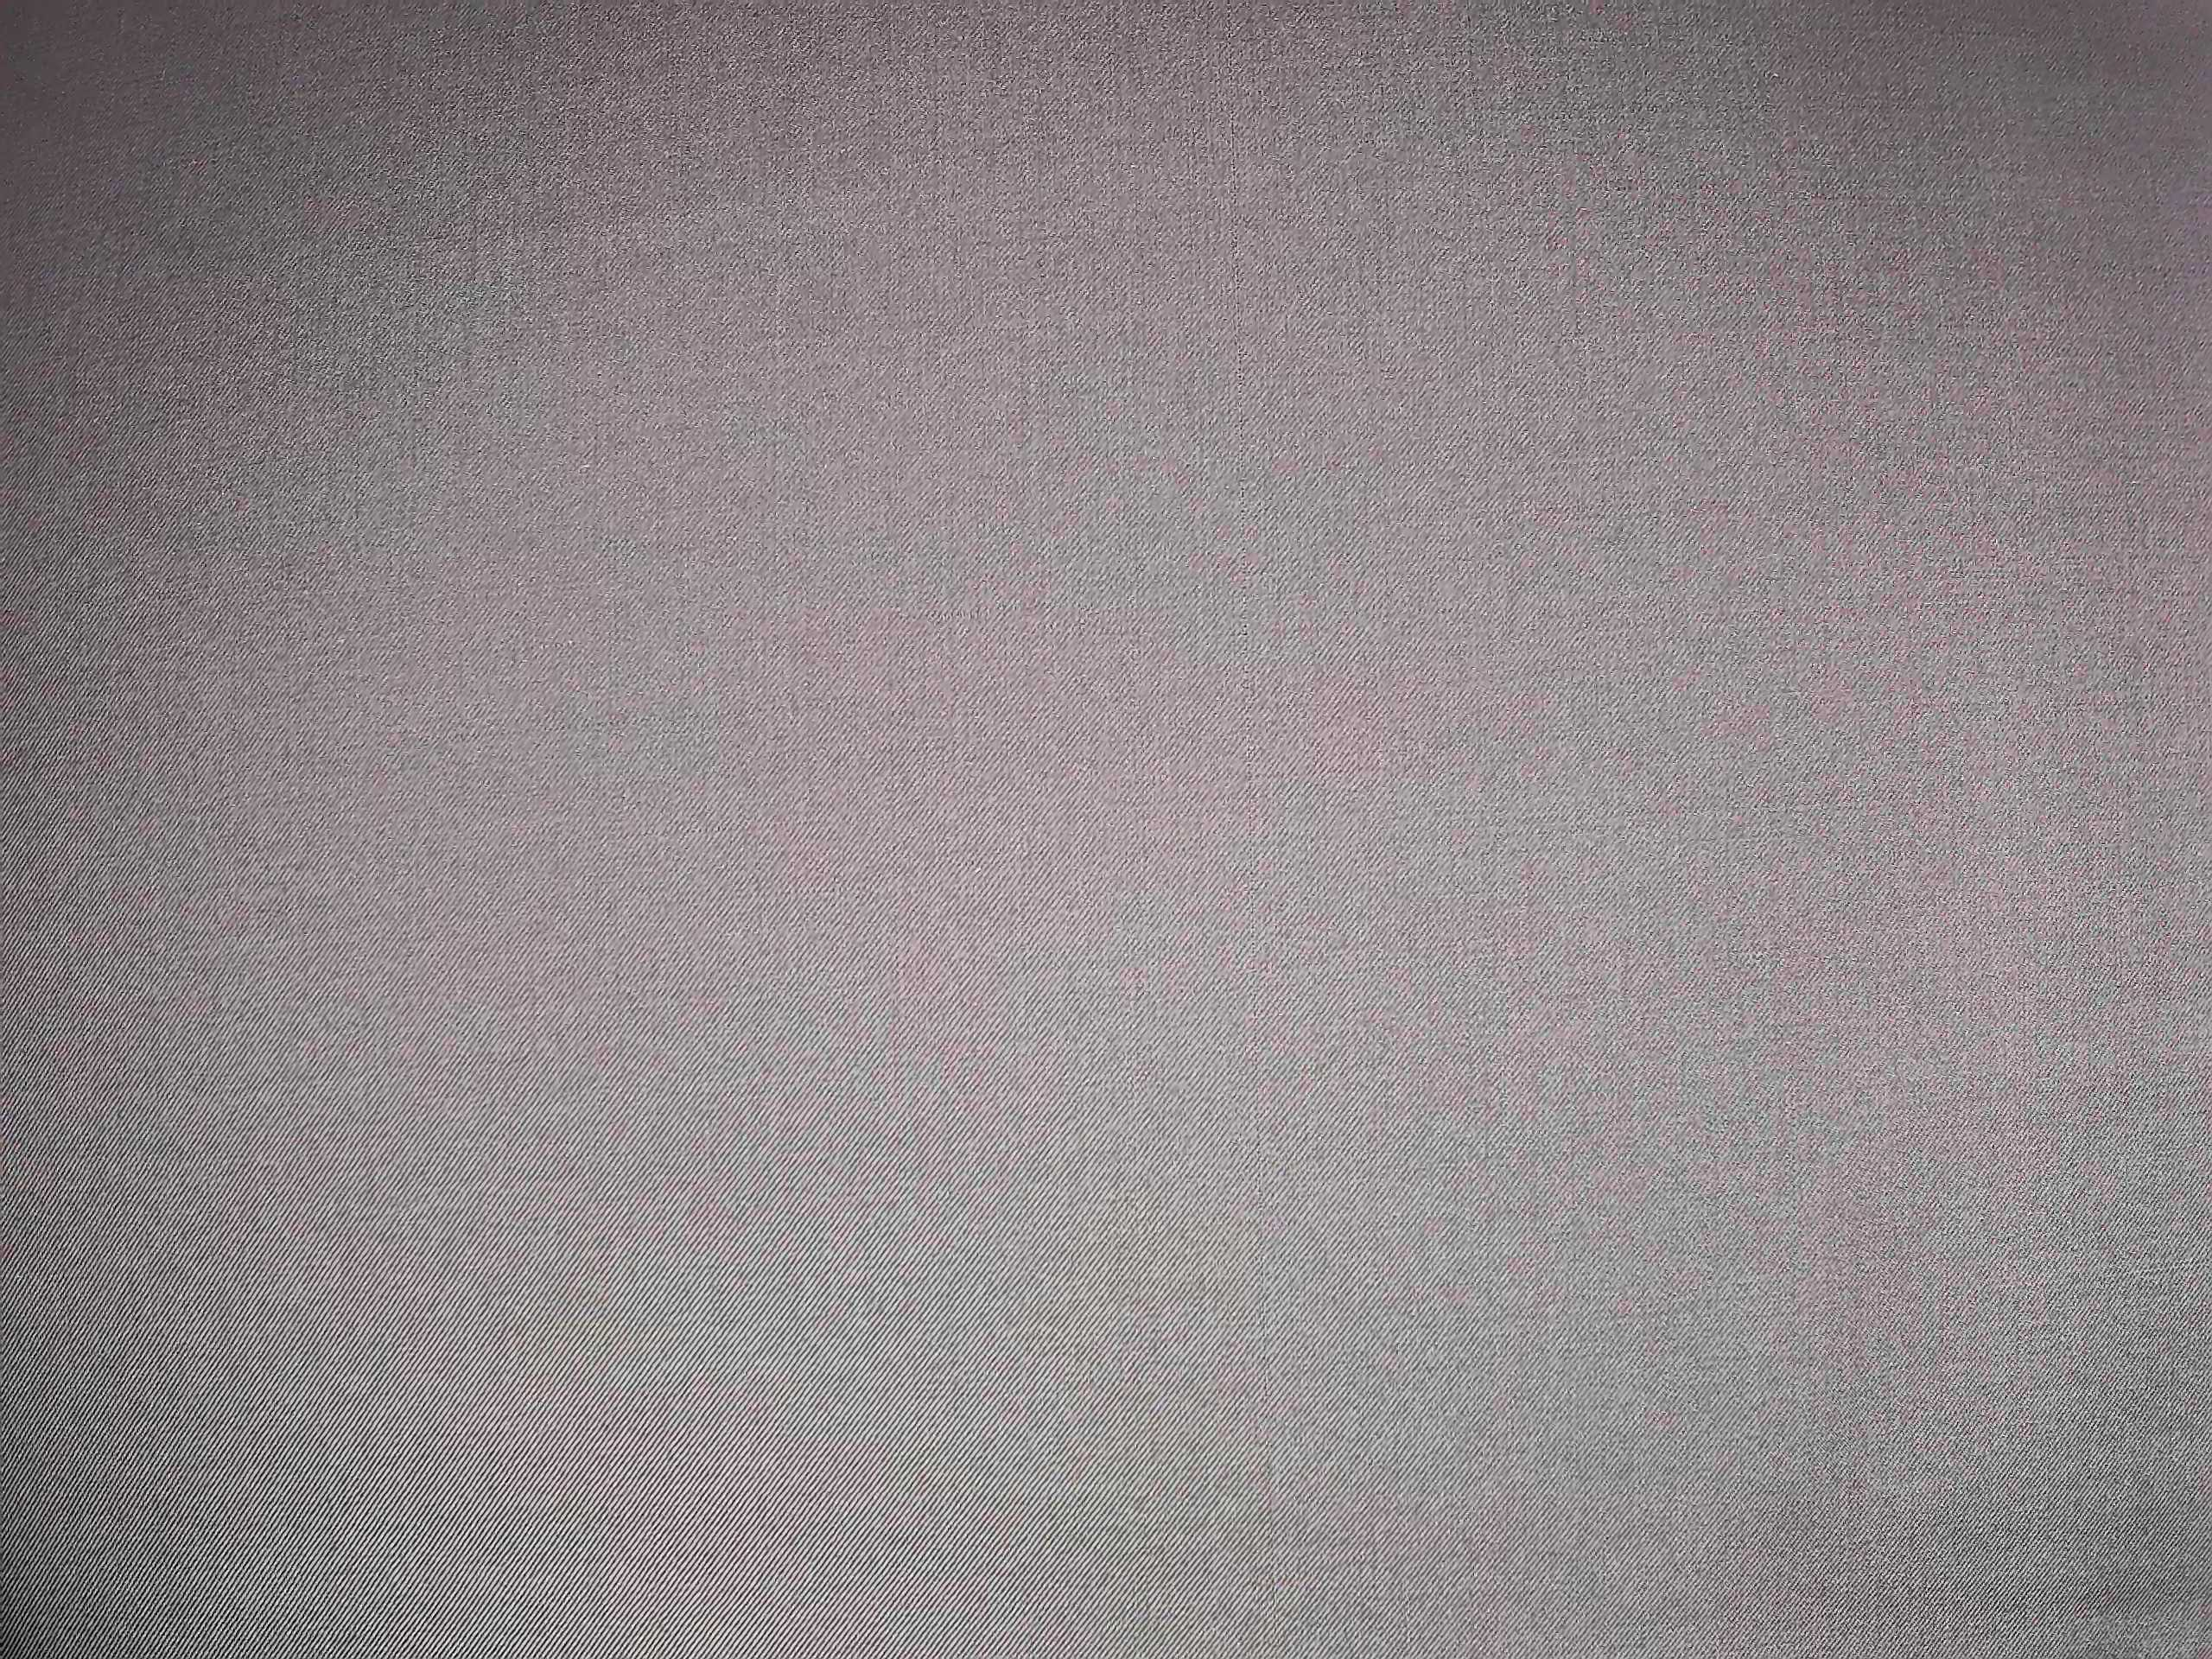lacking-warp: (1217, 2, 1287, 1645)
